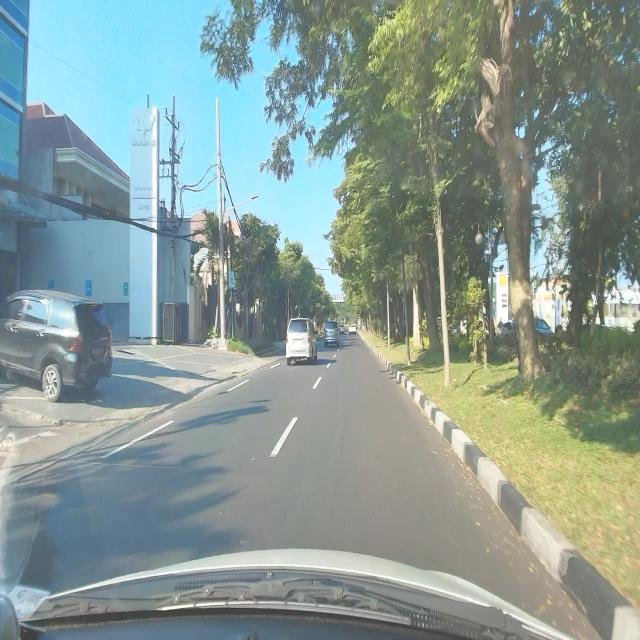car: (285, 315, 318, 367), (324, 320, 340, 349)
